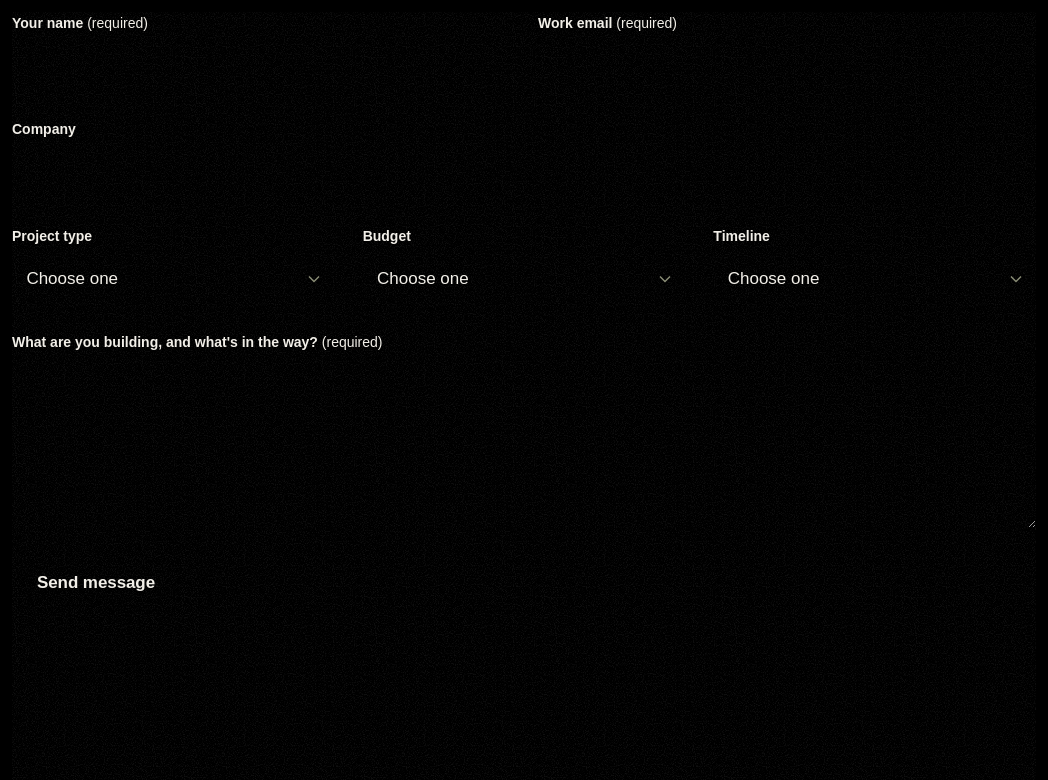
Test: ContactForm › shows what is missing instead of sending an empty inquiry
This screenshot has width=1048, height=780.
What coordinates should you click on to do the following:
click the button "Send message"
I would click on:
 (96, 582)
Its box is [12,556,180,608].
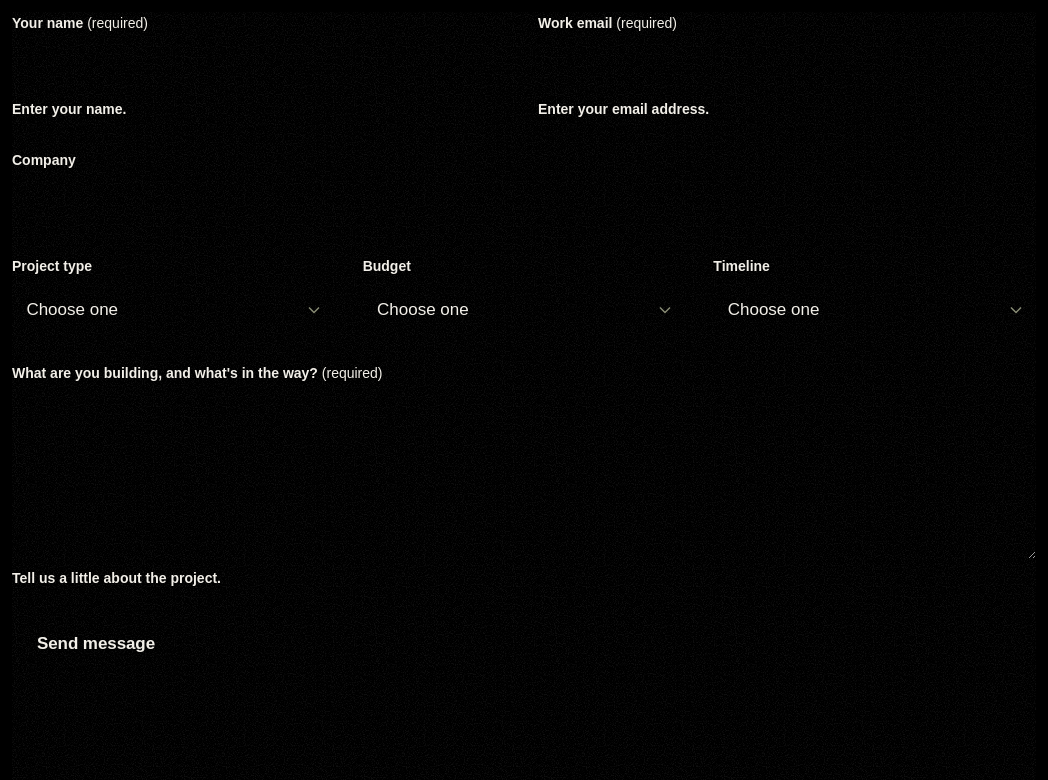
expect the text "Enter your name." is shown: met, box [12,101,126,117]
expect the text "Enter your email address." is shown: met, box [538,101,709,117]
expect the text "Tell us a little about the project." is shown: met, box [12,570,221,586]
